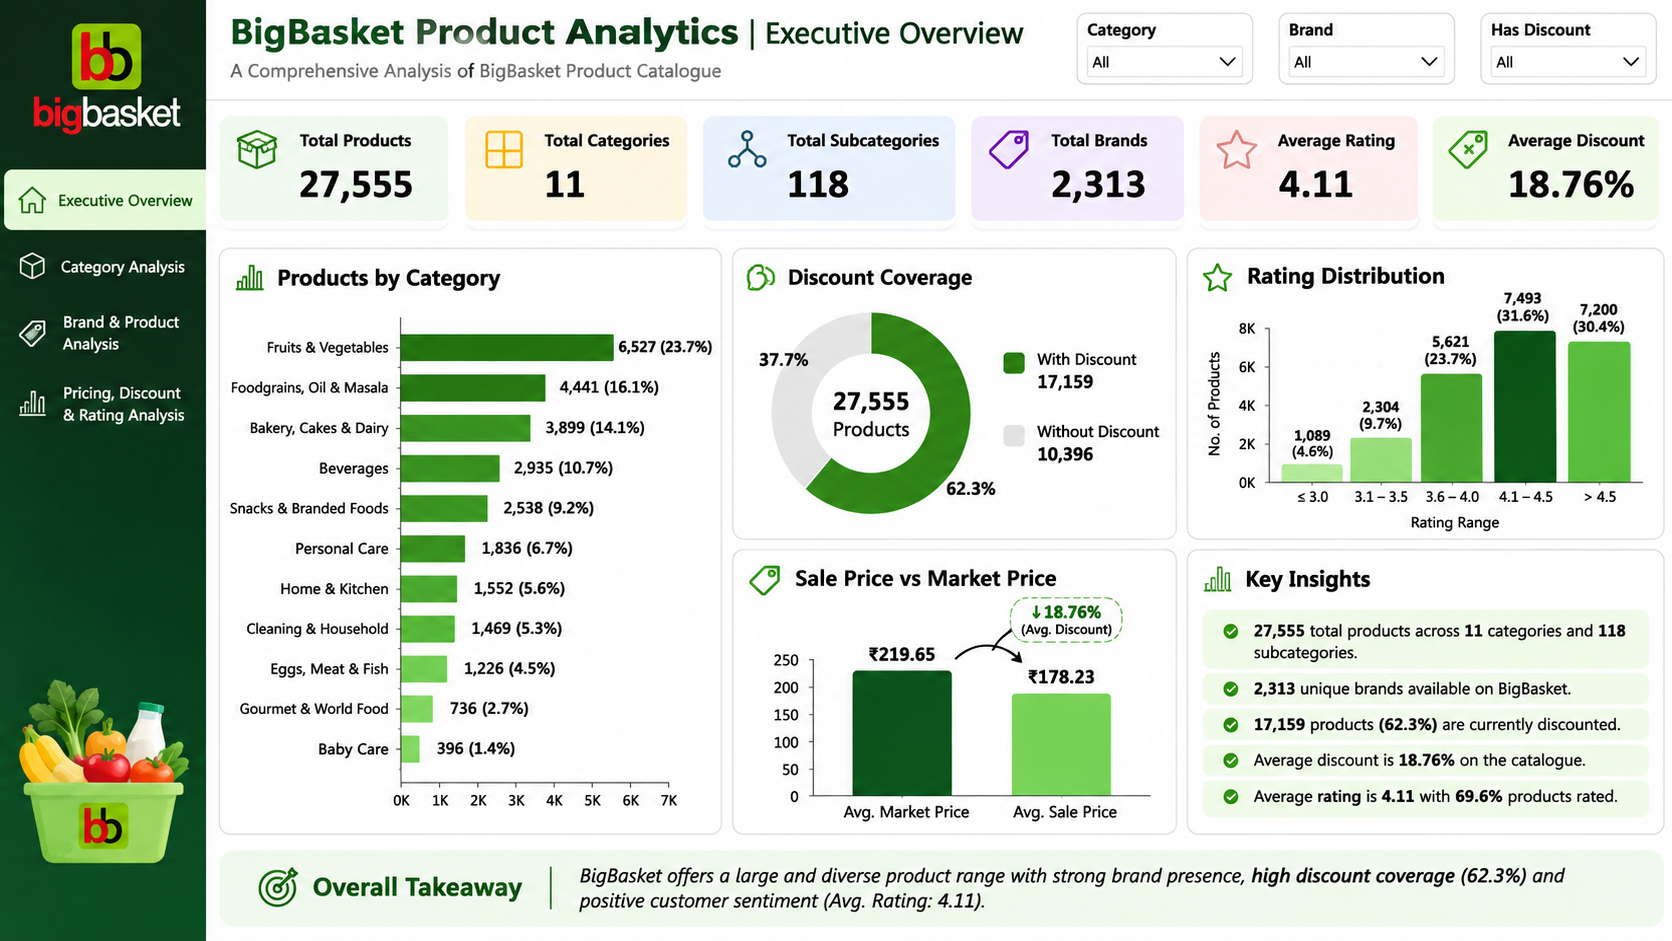

What the dashboard file says about the page in this screenshot:
{"tool":"powerbi","page":{"name":"Page 1","canvas":[1280,720],"ordinal":0},"visuals":[{"type":"card","fields":{"Values":["DAX_Measures.Total Products"]},"box":[208.3,104.7,119.2,50.8],"z":0},{"type":"card","fields":{"Values":["DAX_Measures.Total Brands"]},"box":[774.2,104.7,119.2,50.8],"z":1000},{"type":"card","fields":{"Values":["DAX_Measures.Total Subcategories"]},"box":[580.4,104.7,119.2,50.8],"z":2000},{"type":"card","fields":{"Values":["DAX_Measures.Total Categories"]},"box":[395.9,104.7,119.2,50.8],"z":3000},{"type":"card","fields":{"Values":["DAX_Measures.Average Discount %"]},"box":[1134.9,104.7,119.2,50.8],"z":4000},{"type":"card","fields":{"Values":["DAX_Measures.Average Rating"]},"box":[956.6,104.7,119.2,50.8],"z":5000},{"type":"clusteredBarChart","title":"Products by Category","fields":{"Category":["Products.category"],"Y":["DAX_Measures.Total Products"]},"box":[166.7,175.6,386.6,335.2],"z":6000},{"type":"donutChart","fields":{"Category":["Products.has_discount"],"Y":["DAX_Measures.Total Products"]},"box":[560.4,175.6,318.3,242.1],"z":7000},{"type":"clusteredColumnChart","fields":{"Y":["DAX_Measures.Rated Products"],"Category":["Products.Rating Range"]},"box":[882.3,175.6,394.6,242.1],"z":8000},{"type":"clusteredColumnChart","fields":{"Category":["Price Comparison.Price Type"],"Y":["Price Comparison.Price Comparison Value"]},"box":[560.4,424.7,318.3,295.3],"z":9000},{"type":"clusteredBarChart","fields":{"Category":["Products.brand"],"Y":["DAX_Measures.Total Products"]},"box":[882.3,424.7,398.1,295.3],"z":10000},{"type":"image","box":[166.7,516.9,386.6,203.1],"z":11000},{"type":"slicer","fields":{"Values":["Products.category"]},"box":[825,5.2,150.3,63.2],"z":11001},{"type":"slicer","fields":{"Values":["Products.brand"]},"box":[979.4,5.2,150.3,63.2],"z":11002},{"type":"slicer","fields":{"Values":["Products.has_discount"]},"box":[1134.9,5.2,145.1,63.2],"z":11003},{"type":"pageNavigator","box":[0,163.8,159.6,253.9],"z":11004}]}

Visuals, with their boxes in screenshot pixels (x1, y1, x2, y2), scaled from the page's 1280x720 canvas onto the 1672x941 screenshot:
card - DAX_Measures.Total Products: {"x1": 272, "y1": 137, "x2": 428, "y2": 203}
card - DAX_Measures.Total Brands: {"x1": 1011, "y1": 137, "x2": 1167, "y2": 203}
card - DAX_Measures.Total Subcategories: {"x1": 758, "y1": 137, "x2": 914, "y2": 203}
card - DAX_Measures.Total Categories: {"x1": 517, "y1": 137, "x2": 673, "y2": 203}
card - DAX_Measures.Average Discount %: {"x1": 1482, "y1": 137, "x2": 1638, "y2": 203}
card - DAX_Measures.Average Rating: {"x1": 1250, "y1": 137, "x2": 1405, "y2": 203}
"Products by Category" clusteredBarChart: {"x1": 218, "y1": 229, "x2": 723, "y2": 668}
donutChart - Products.has_discount x DAX_Measures.Total Products: {"x1": 732, "y1": 229, "x2": 1148, "y2": 546}
clusteredColumnChart - DAX_Measures.Rated Products x Products.Rating Range: {"x1": 1153, "y1": 229, "x2": 1668, "y2": 546}
clusteredColumnChart - Price Comparison.Price Type x Price Comparison.Price Comparison Value: {"x1": 732, "y1": 555, "x2": 1148, "y2": 940}
clusteredBarChart - Products.brand x DAX_Measures.Total Products: {"x1": 1153, "y1": 555, "x2": 1671, "y2": 940}
image: {"x1": 218, "y1": 676, "x2": 723, "y2": 940}
slicer - Products.category: {"x1": 1078, "y1": 7, "x2": 1274, "y2": 89}
slicer - Products.brand: {"x1": 1279, "y1": 7, "x2": 1476, "y2": 89}
slicer - Products.has_discount: {"x1": 1482, "y1": 7, "x2": 1671, "y2": 89}
pageNavigator: {"x1": 0, "y1": 214, "x2": 208, "y2": 546}
